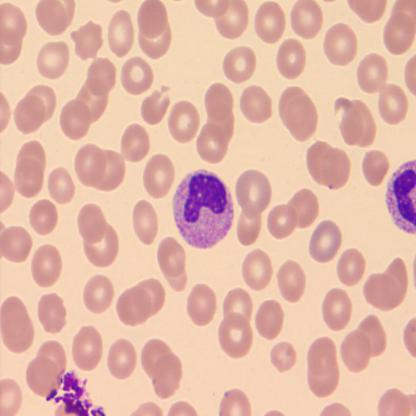Metamyelocyte: (170, 165, 236, 251)
